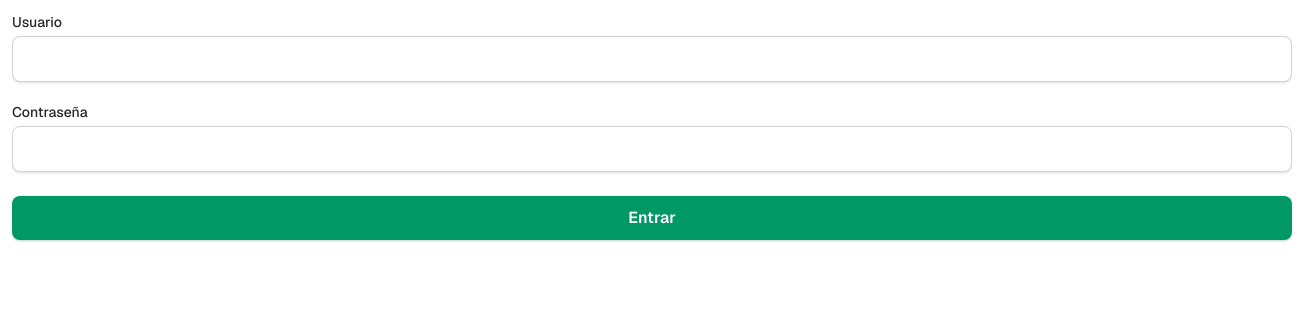
LoginForm › manda el formulario a la acción y muestra sus errores
Type "ana" into the field labelled "Usuario" at x=652, y=59, box [12,36,1292,82]
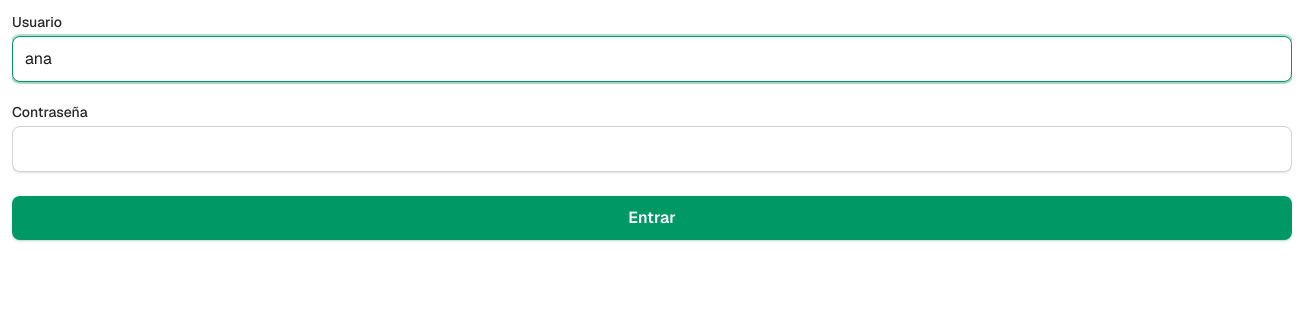
Type "mala" into the password field labelled "Contraseña" at x=652, y=149, box [12,126,1292,172]
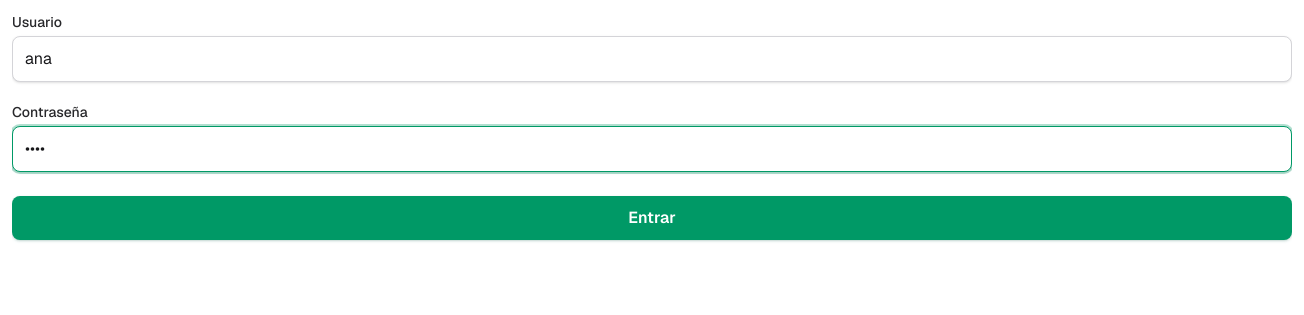
Click the button "Entrar" at x=652, y=218, box [12,196,1292,240]
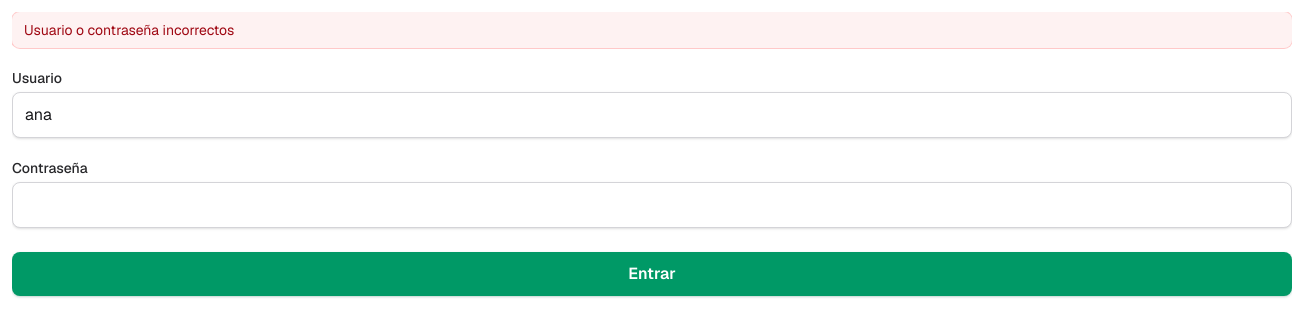
Result: the message reads "Usuario o contraseña incorrectos" at [24,21,234,39]
